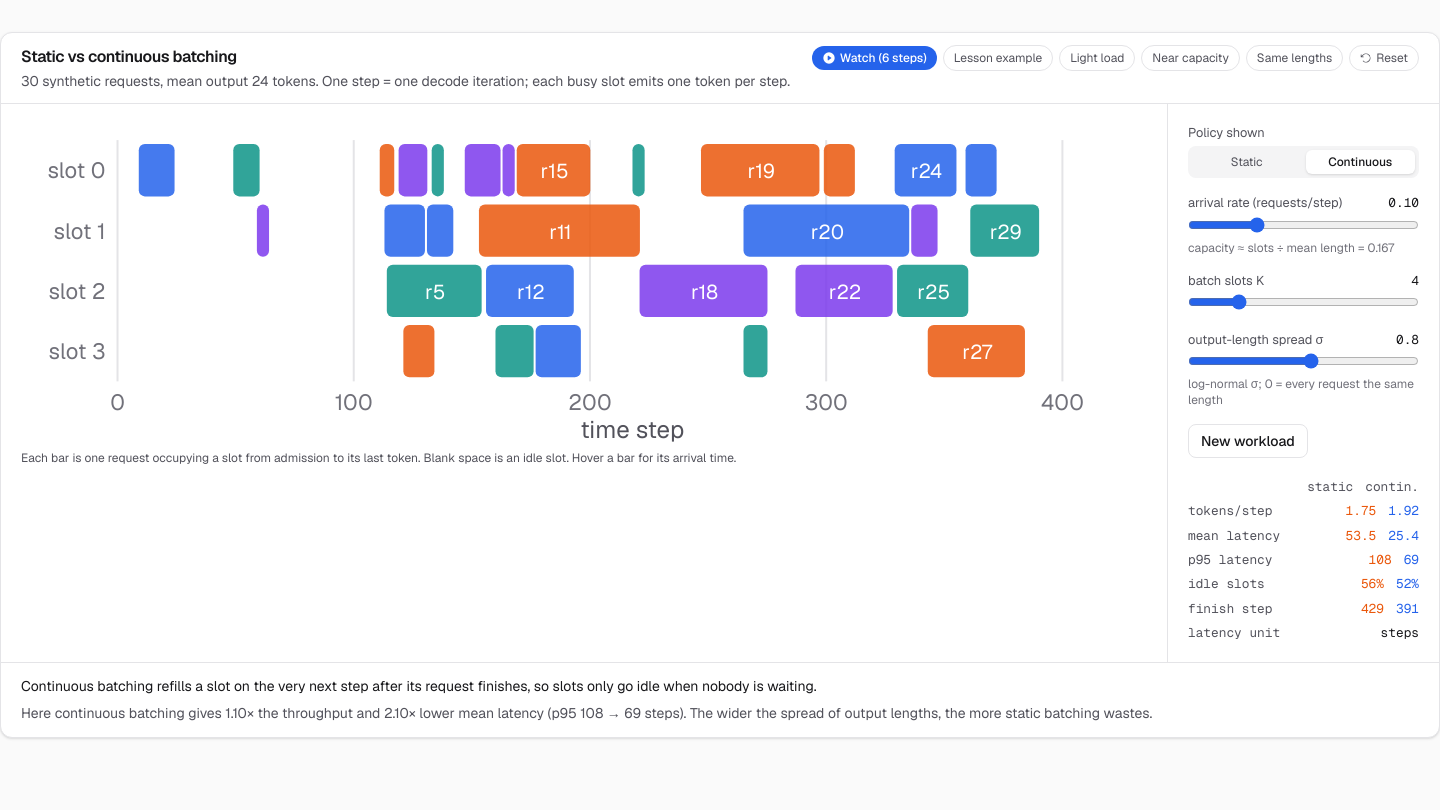
Test case: batching lab renders › has buttons and loads the lesson example
Expected: the button "Watch (6 steps)" is shown, [812, 46, 937, 70]
Click the button "Lesson example" at {"x": 998, "y": 58}, box [943, 45, 1053, 71]
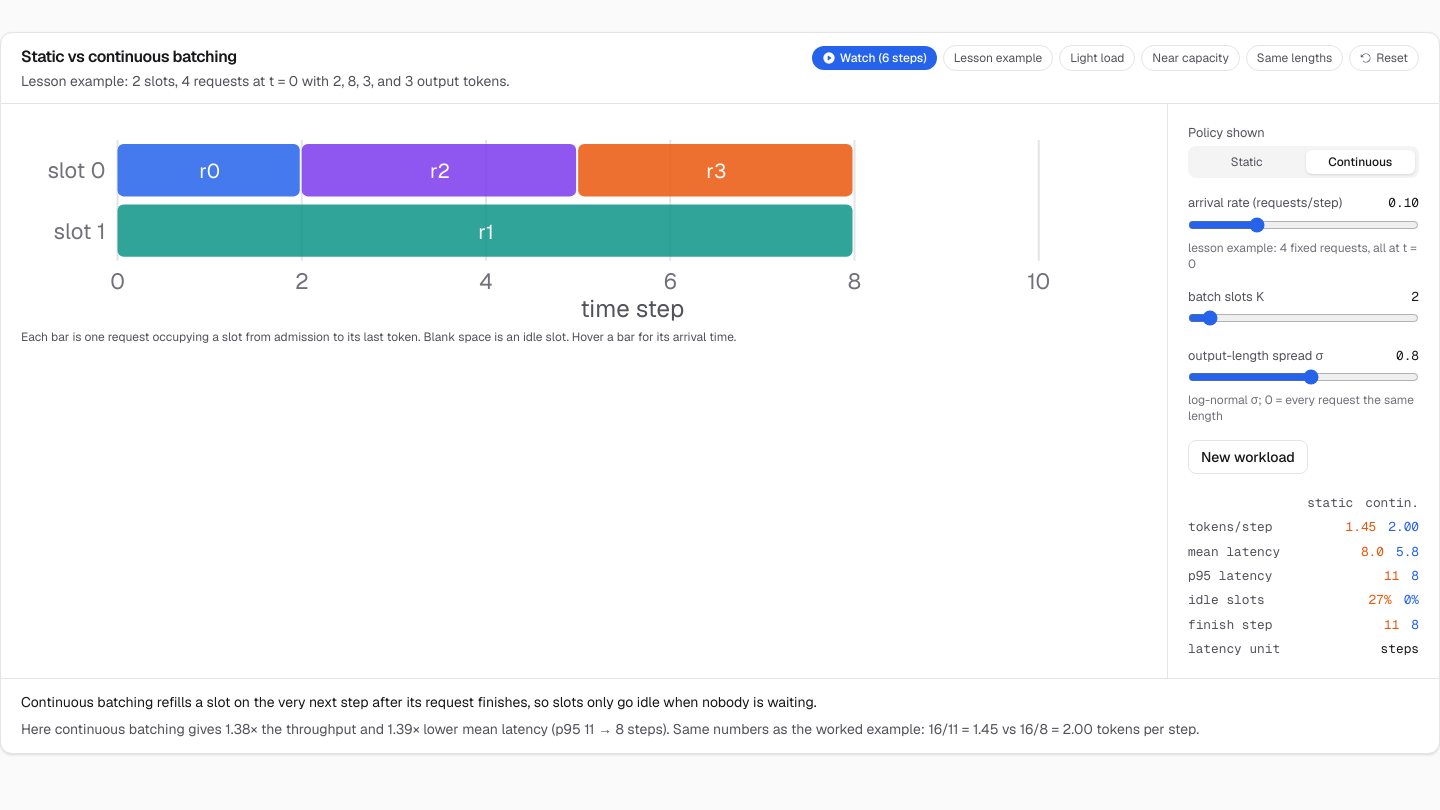
Result: the text "16/11 = 1.45 vs 16/8 = 2.00" is shown at [673, 720, 1199, 738]
